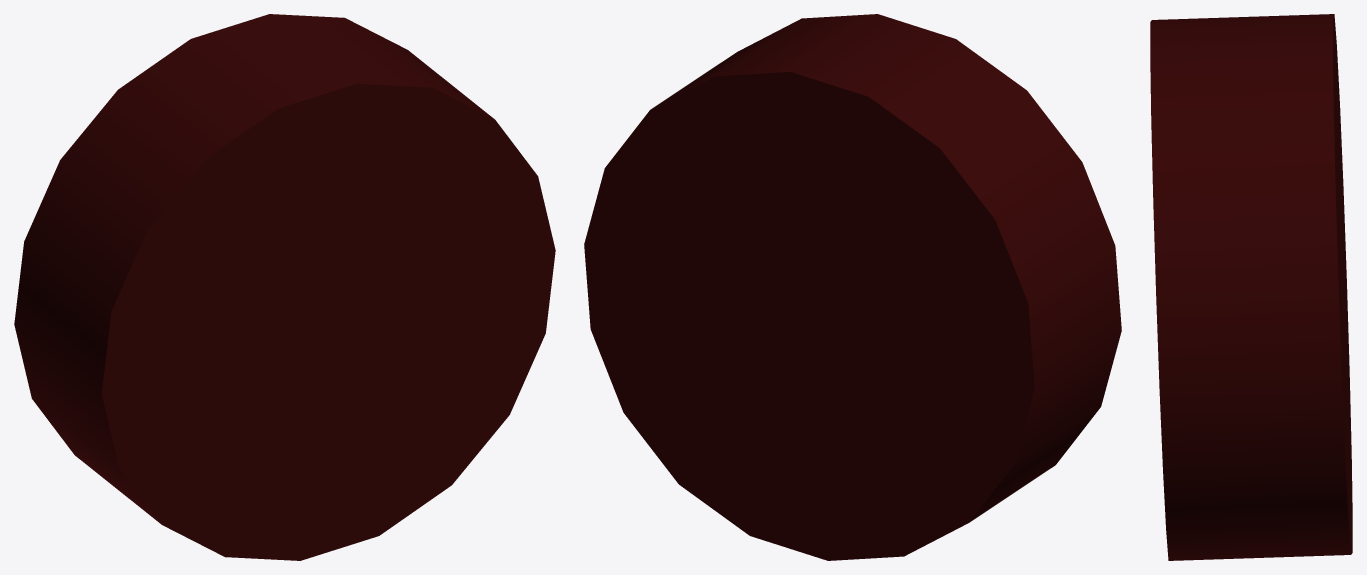
Rendered from original-23.obj.
3 views of the same model, side by side, from view 1: azimuth 30°, elevation 25°; view 2: azimuth 150°, elevation 25°; view 3: azimuth 270°, elevation 25° (orthographic). The views are drawn at different scales.
Parts seen in each view (by area): view 1: mesh37/mesh37-geometry#mesh37-geometry; view 2: mesh37/mesh37-geometry#mesh37-geometry; view 3: mesh37/mesh37-geometry#mesh37-geometry.
Part boxes in pixels (x1=…): mesh37/mesh37-geometry#mesh37-geometry: x1=14, y1=14, x2=555, y2=560; mesh37/mesh37-geometry#mesh37-geometry: x1=584, y1=14, x2=1121, y2=560; mesh37/mesh37-geometry#mesh37-geometry: x1=1150, y1=14, x2=1352, y2=560.
Bounding box in the file's own units: 0.0211 × 0.0213 × 0.00781.
